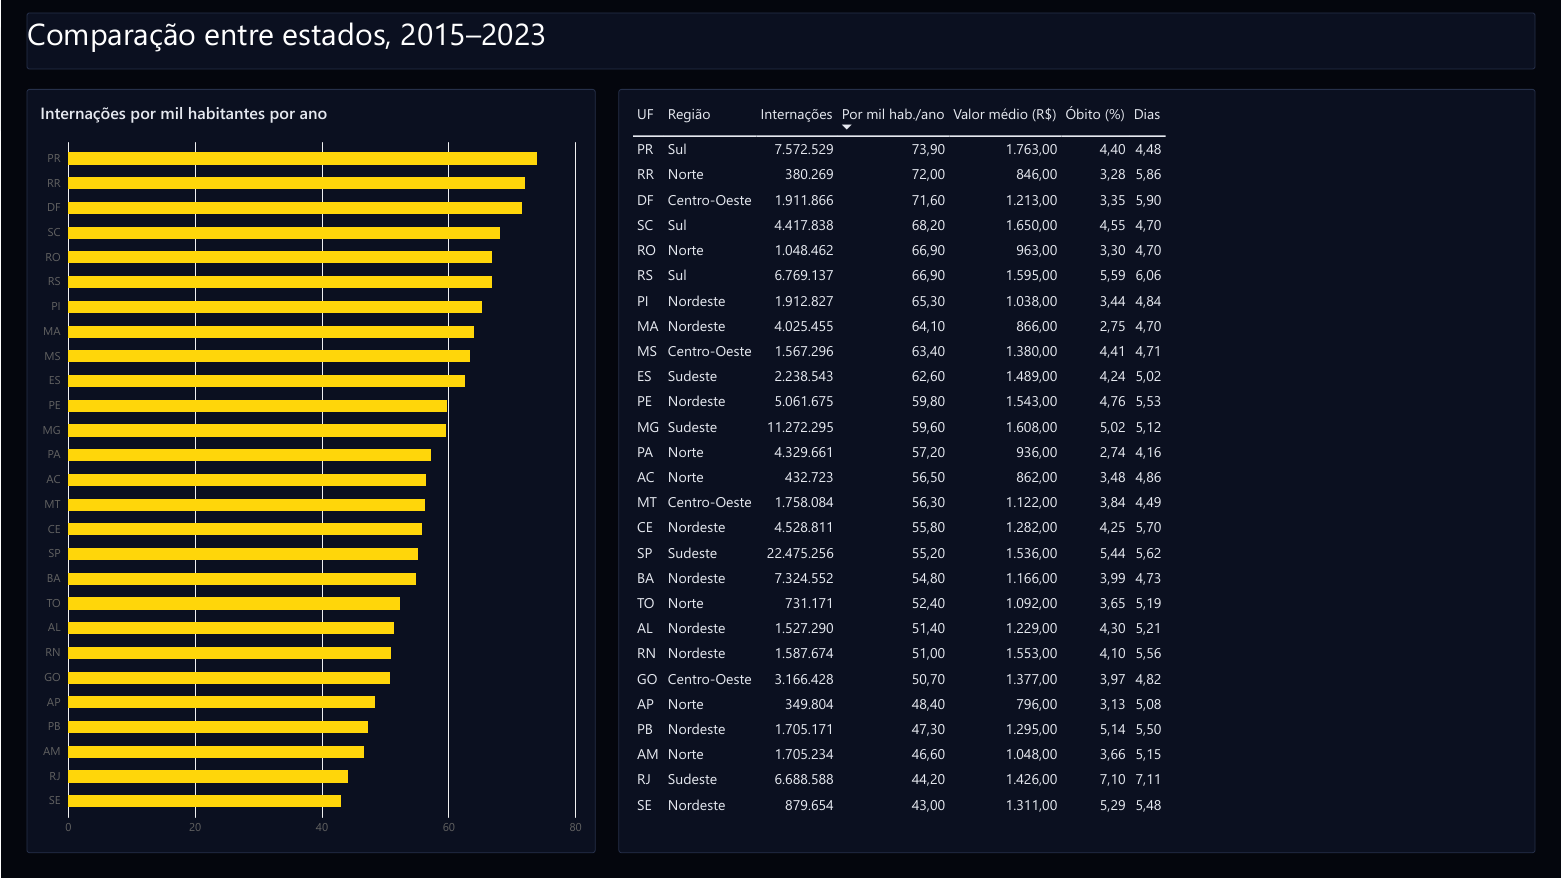

The dashboard page shown, as its layout file describes it:
{"tool":"powerbi","page":{"name":"Estados","canvas":[1920,1080],"ordinal":3},"visuals":[{"type":"tableEx","fields":{"Values":["estados.sigla","estados.regiao","Sum(estados.internacoes)","Sum(estados.intern_por_mil_hab)","Sum(estados.valor_medio)","Sum(estados.pct_obito)","Sum(estados.media_dias)"]},"box":[760,110,1128,940],"z":0},{"type":"clusteredBarChart","title":"Internações por mil habitantes por ano","fields":{"Category":["estados.sigla"],"Y":["Sum(estados.intern_por_mil_hab)"]},"box":[32,110,700,940],"z":1},{"type":"textbox","box":[32,16,1856,70],"z":2}]}

Visuals, with their boxes in screenshot pixels (x1, y1, x2, y2), scaled from the page's 1920x1080 canvas onto the 1561x878 screenshot:
tableEx - estados.sigla x estados.regiao: l=618, t=89, r=1535, b=854
"Internações por mil habitantes por ano" clusteredBarChart: l=26, t=89, r=595, b=854
textbox: l=26, t=13, r=1535, b=70
